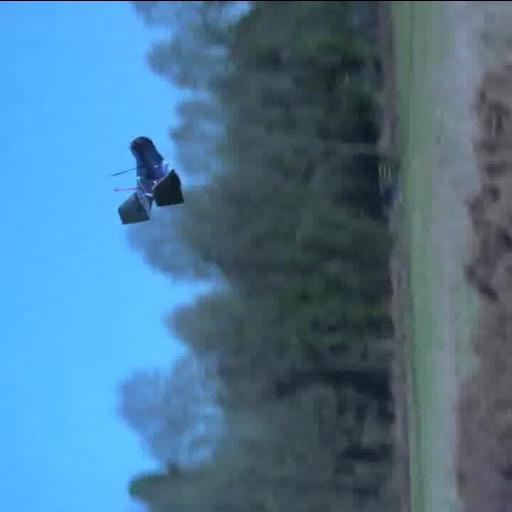uav: (107, 132, 199, 226)
